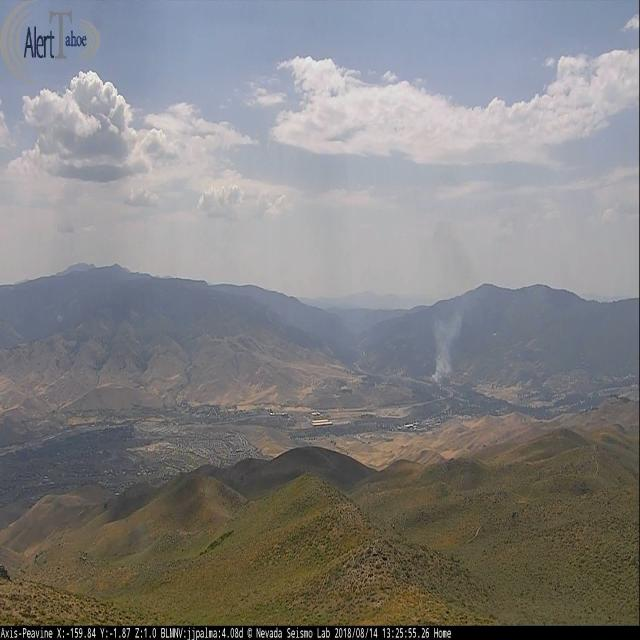smoke: (429, 308, 460, 386)
